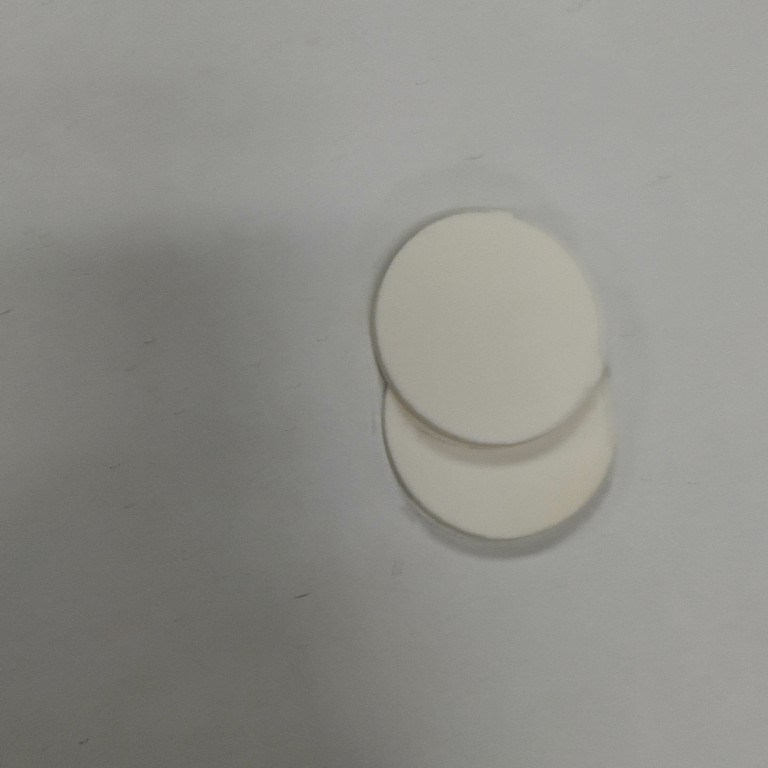ceramics: (365, 203, 622, 551)
